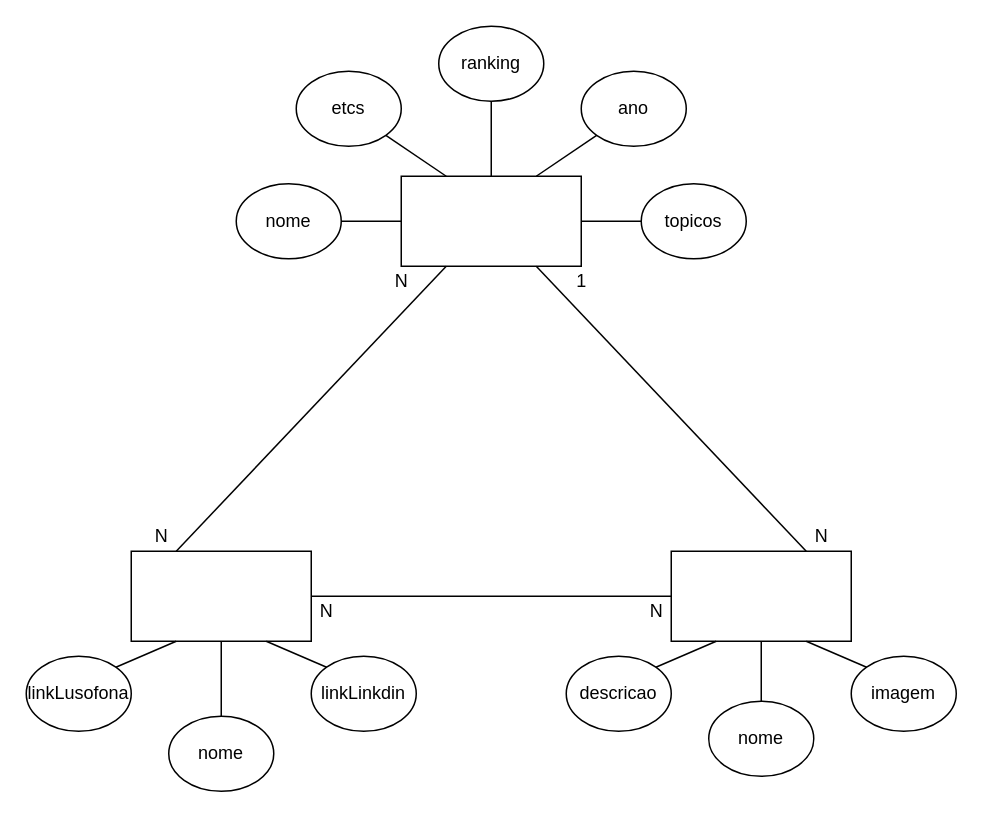
The diagram is 983 pixels wide and 818 high, and some of its shapes have lost their labels. Each missing label, with the centre of its shape:
"Cadeira" belongs at point (490, 220).
"Professor" belongs at point (220, 595).
"Projeto" belongs at point (760, 595).
